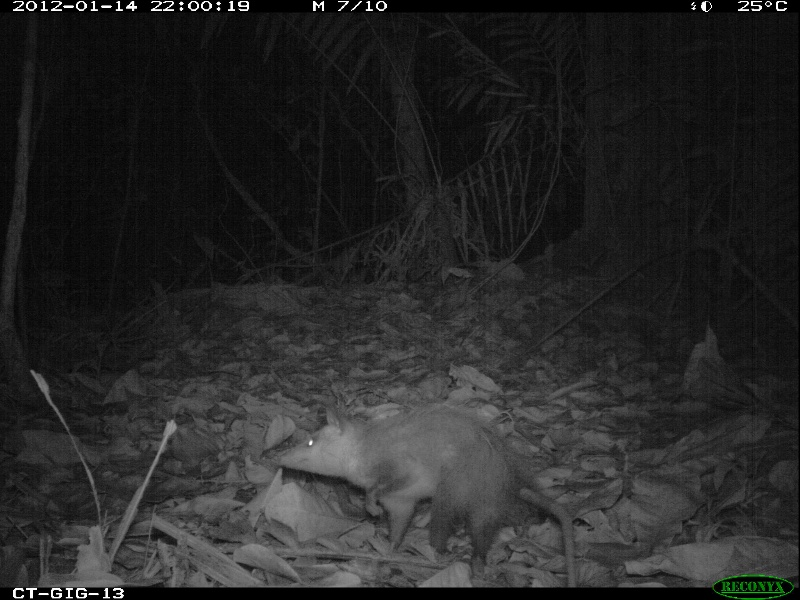opossum: (278, 410, 583, 580)
